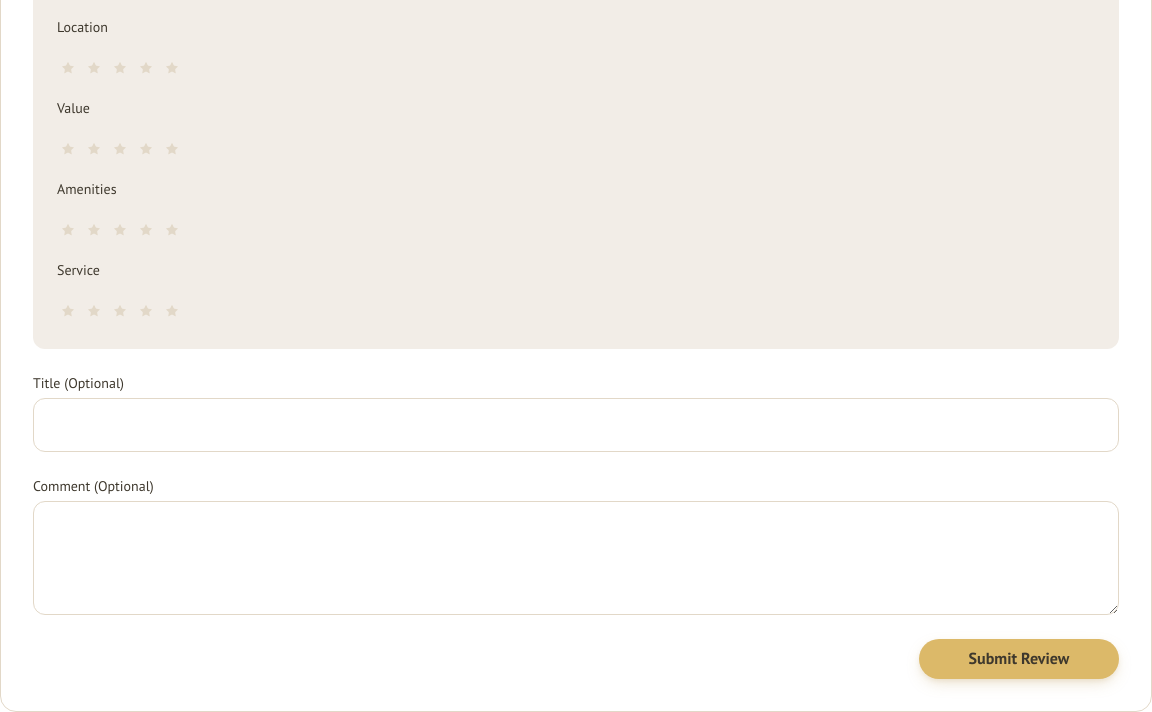
ReviewForm › should show validation error when overall rating is missing
(page scrolled)
Click the button "Submit Review".
click(1019, 659)  # box 919,639 -> 1119,679
(page scrolled)
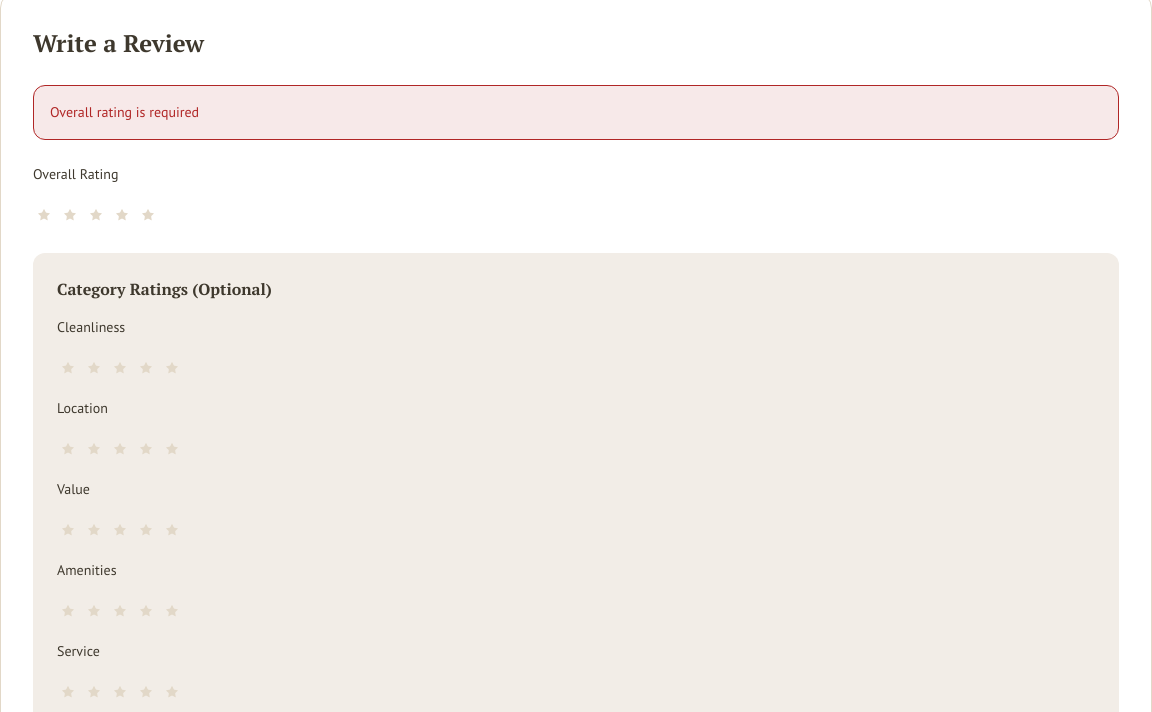
Expected: the text "Overall rating is required" is shown, 33,85 -> 1119,140
